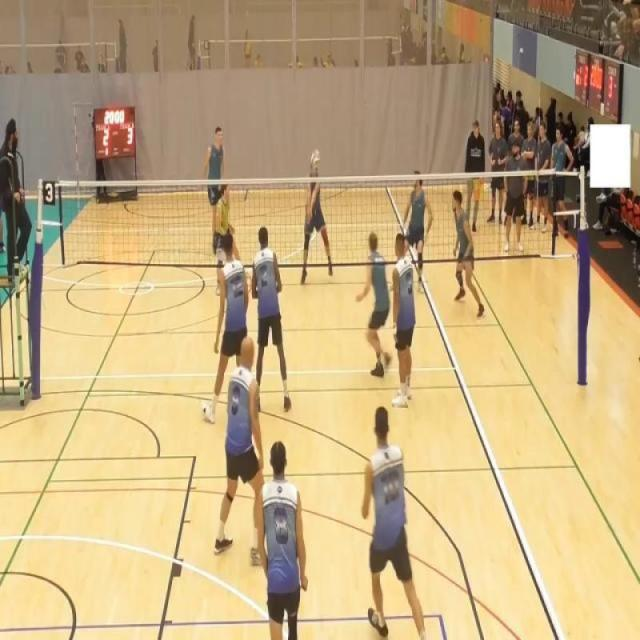volleyball: (310, 148, 321, 171)
